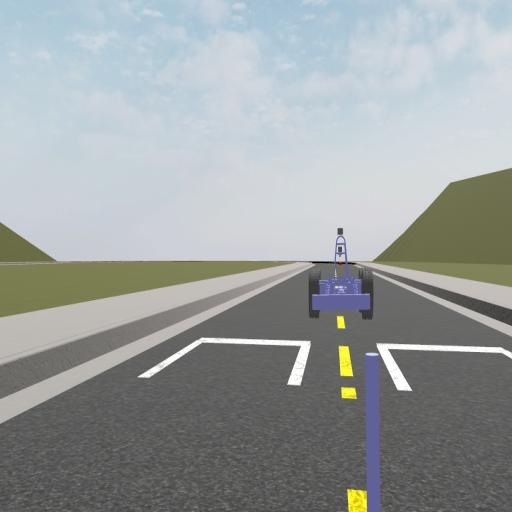ERP-42: (309, 228, 373, 319)
